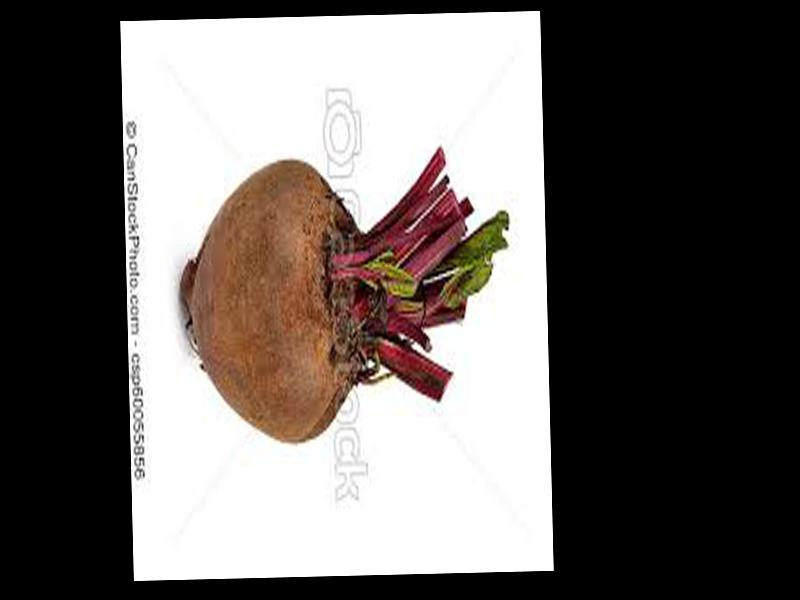Beet: (178, 146, 513, 448)
